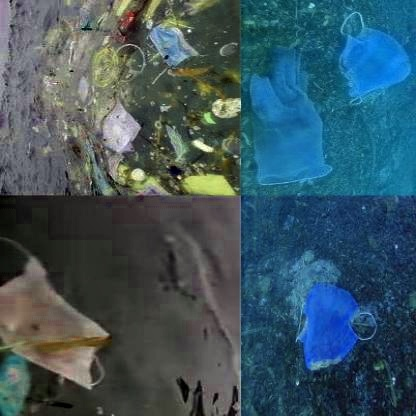Mask: (0, 233, 124, 389), (336, 10, 414, 107), (294, 280, 376, 372), (145, 18, 195, 70)
glove: (248, 44, 327, 188)
